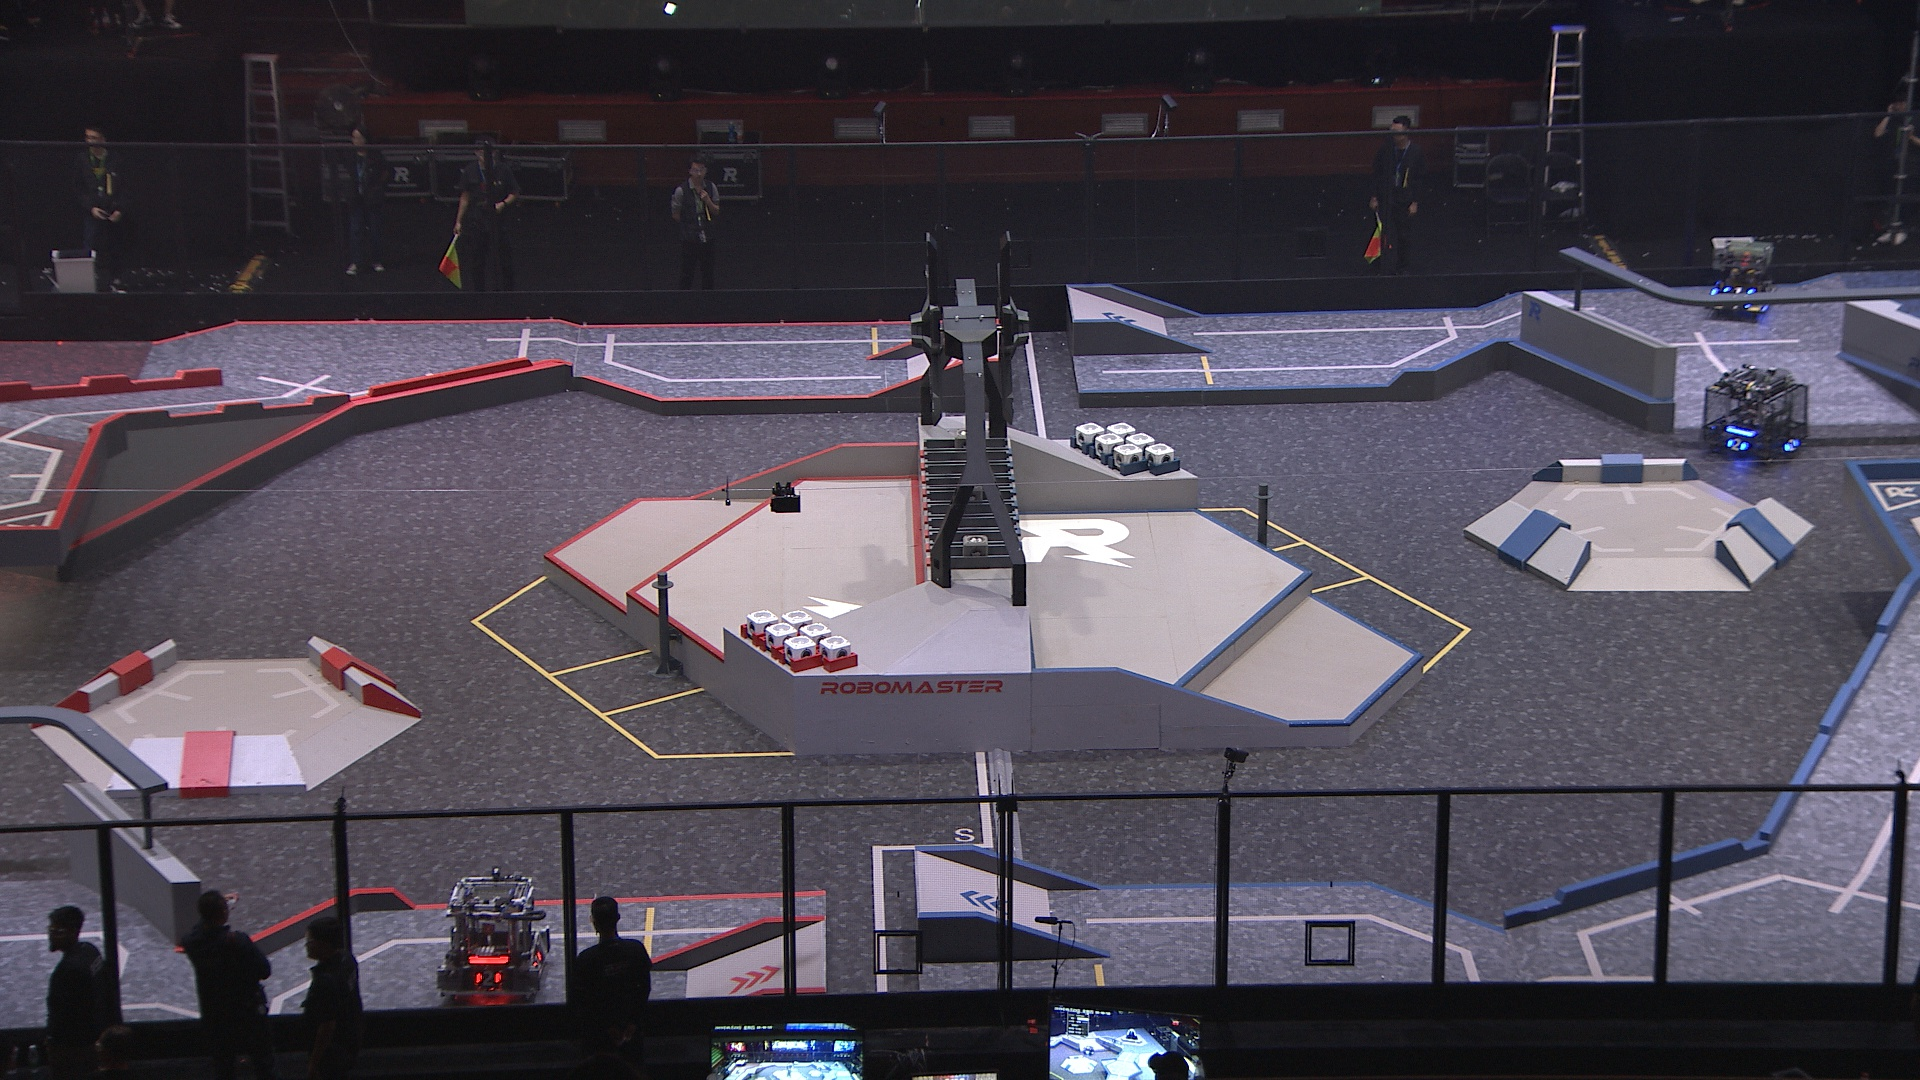armor: (475, 971, 502, 992), (1724, 436, 1750, 455), (1724, 285, 1756, 297), (1783, 438, 1801, 455), (531, 949, 545, 972)
car: (438, 869, 553, 998), (1700, 363, 1812, 465), (1708, 237, 1776, 318)
